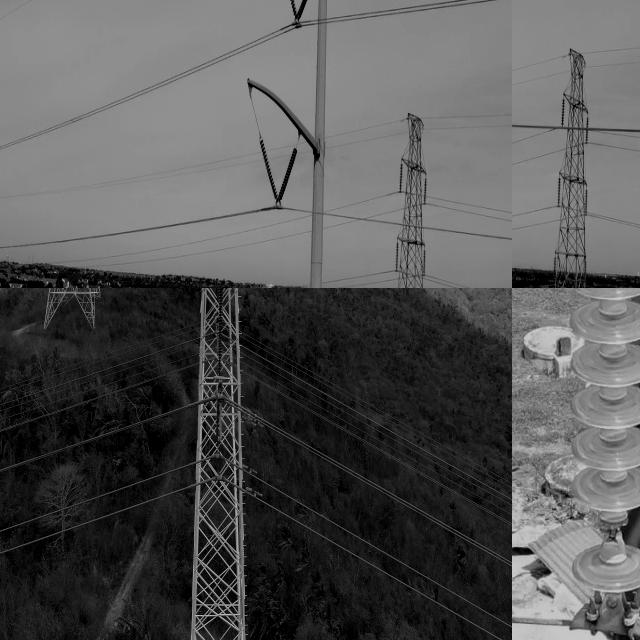杆塔: (554, 288, 640, 640), (195, 288, 252, 640), (545, 42, 592, 288), (391, 108, 428, 288)
正常电缆: (259, 463, 512, 635), (254, 351, 512, 501), (253, 367, 512, 516), (255, 359, 512, 507), (255, 343, 512, 490), (263, 380, 512, 530), (25, 13, 293, 152), (264, 418, 512, 568), (256, 339, 512, 484), (259, 495, 511, 640), (0, 455, 190, 540), (9, 197, 266, 259), (0, 401, 192, 476), (0, 484, 191, 559), (0, 361, 193, 434), (0, 353, 194, 422), (0, 338, 193, 407), (0, 345, 194, 413), (0, 329, 194, 395), (0, 324, 194, 390), (337, 0, 512, 45), (443, 221, 512, 252)
正常绝缘子: (563, 288, 640, 639), (253, 140, 303, 213), (582, 180, 590, 223), (295, 0, 308, 23), (556, 173, 563, 214), (393, 236, 400, 274), (585, 114, 592, 150), (289, 0, 299, 24), (398, 158, 404, 194), (422, 172, 428, 208), (422, 242, 428, 278), (560, 94, 566, 130)
绝缘子破损: (595, 516, 631, 550)
